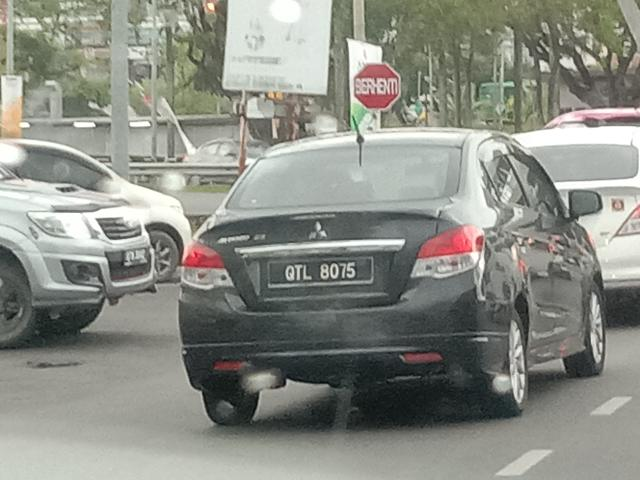License_Plate: (268, 258, 375, 290)
car: (177, 129, 613, 427), (1, 157, 159, 347), (501, 133, 640, 306)
